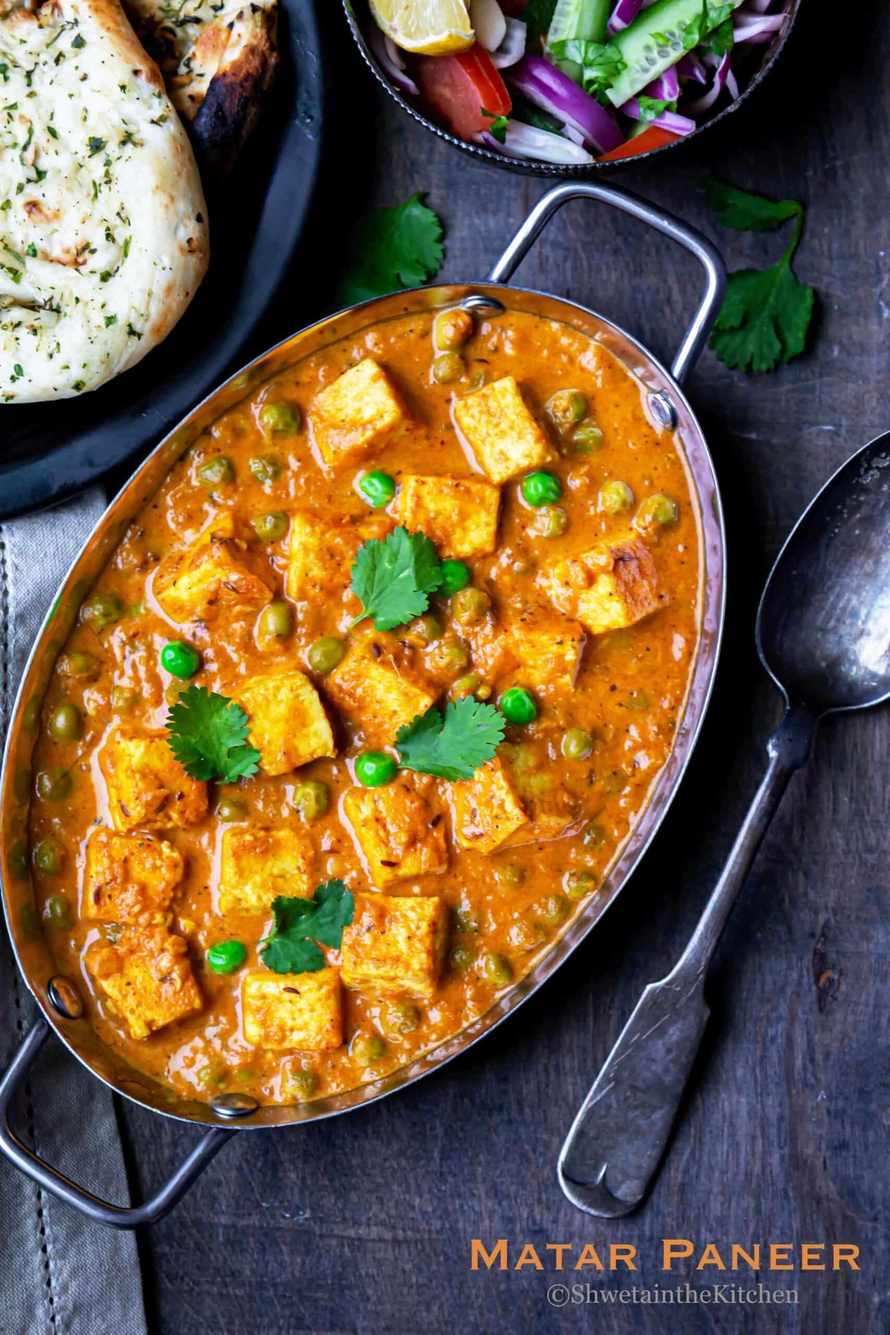paneer: (158, 492, 547, 922)
